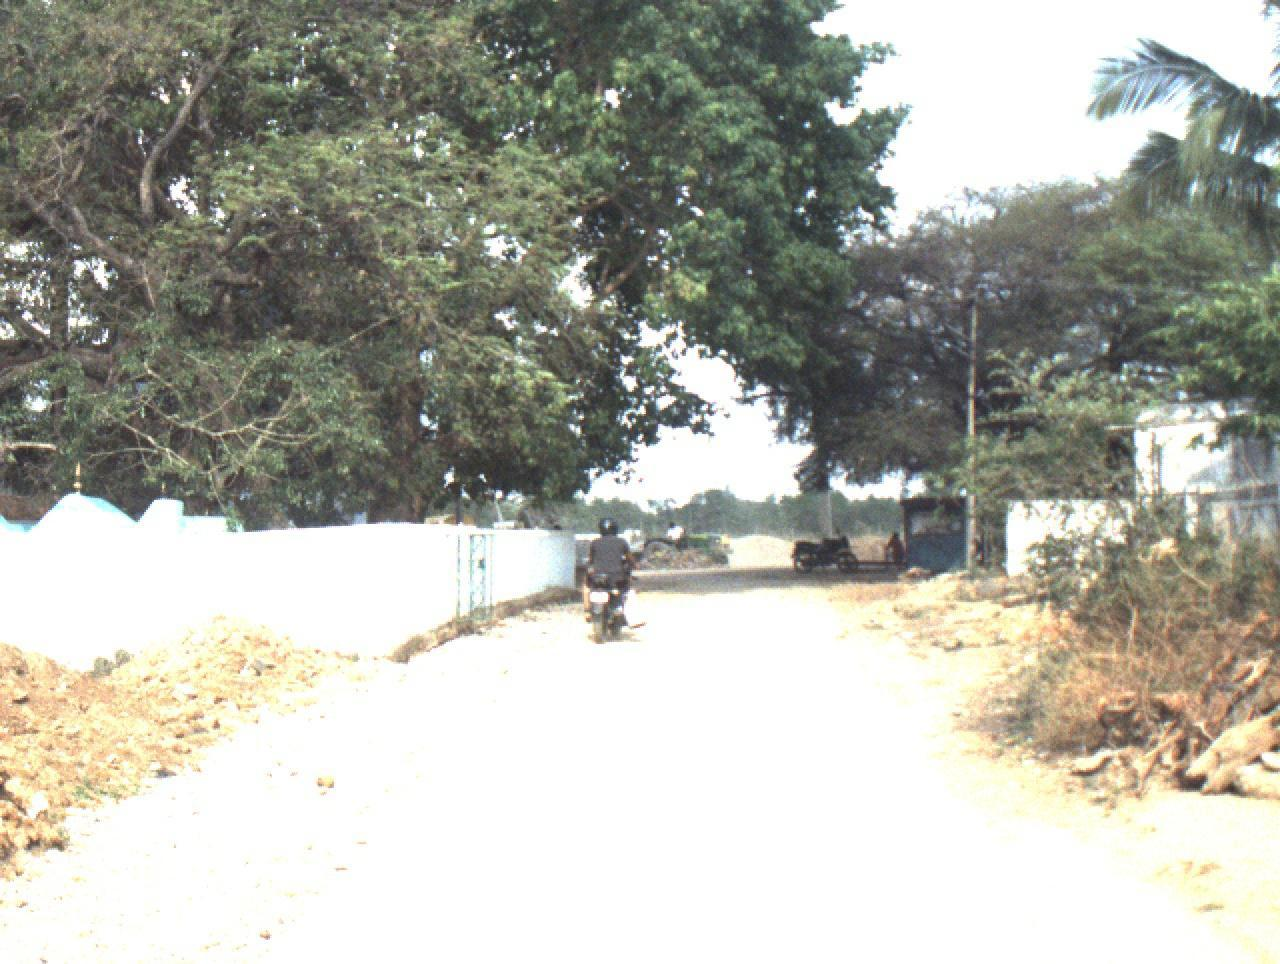off: (60, 1, 948, 964)
